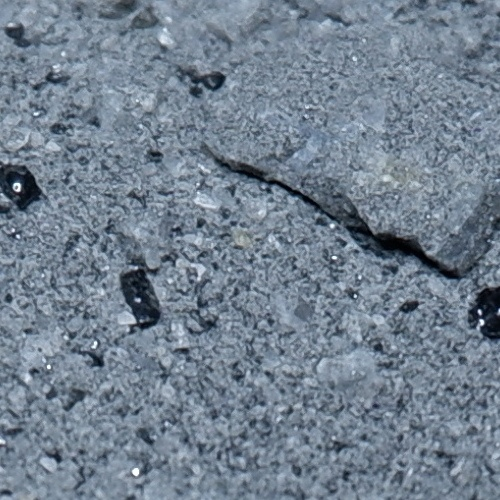glass: (118, 268, 163, 331), (1, 159, 42, 210), (467, 288, 500, 343), (202, 69, 226, 91), (6, 19, 25, 40), (44, 70, 71, 84), (48, 120, 69, 136), (146, 150, 165, 166), (400, 301, 418, 313), (189, 85, 202, 98), (221, 206, 232, 220), (197, 217, 207, 229)
